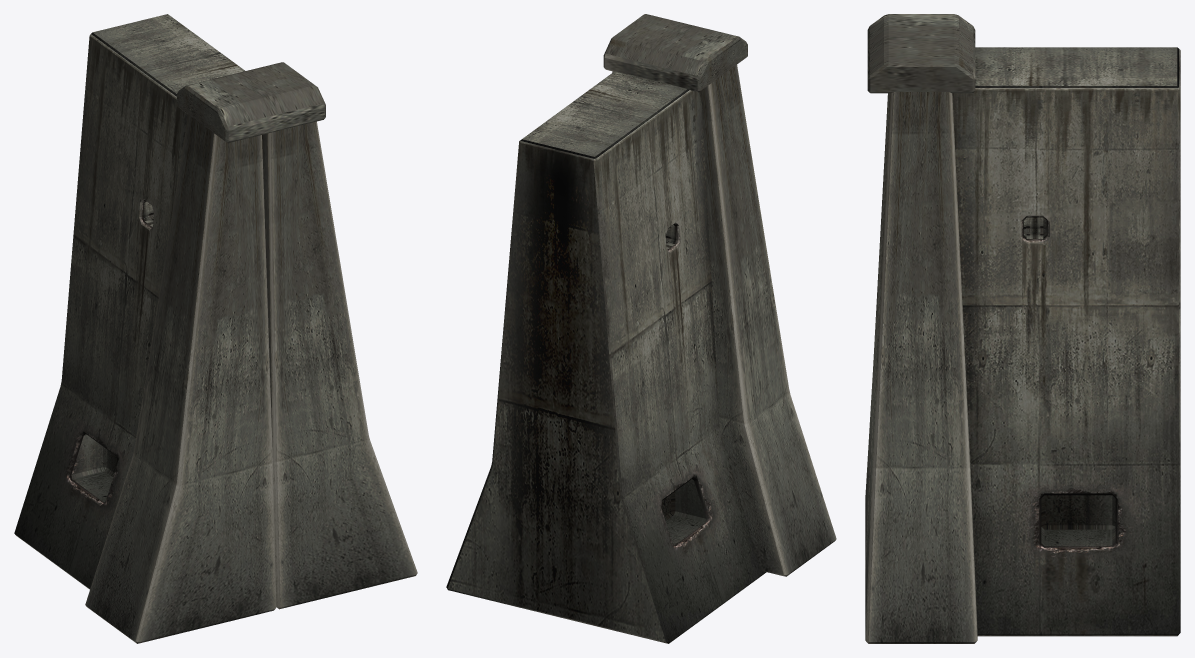
The model's file is end.fbx.
The picture shows the model from 3 angles, left to right: view 1: azimuth 30°, elevation 25°; view 2: azimuth 150°, elevation 25°; view 3: azimuth 270°, elevation 25°; orthographic projection. The views are drawn at different scales.
Visible parts, largest first — view 1: Cube, Cube_cuts, Cube_1; view 2: Cube_cuts, Cube, Cube_1; view 3: Cube_cuts, Cube, Cube_1.
Boxes of the visible parts, left/top/right/bottom form: Cube: left=85, top=114, right=417, bottom=643; Cube_cuts: left=14, top=14, right=244, bottom=589; Cube_1: left=177, top=62, right=325, bottom=143; Cube_cuts: left=446, top=71, right=766, bottom=643; Cube: left=612, top=64, right=836, bottom=576; Cube_1: left=603, top=14, right=747, bottom=92; Cube_cuts: left=952, top=47, right=1180, bottom=636; Cube: left=865, top=92, right=977, bottom=643; Cube_1: left=867, top=14, right=975, bottom=93.
Bounding box in the file's own units: 133 × 229 × 122.
Materials: 2 (2 with a texture image).
